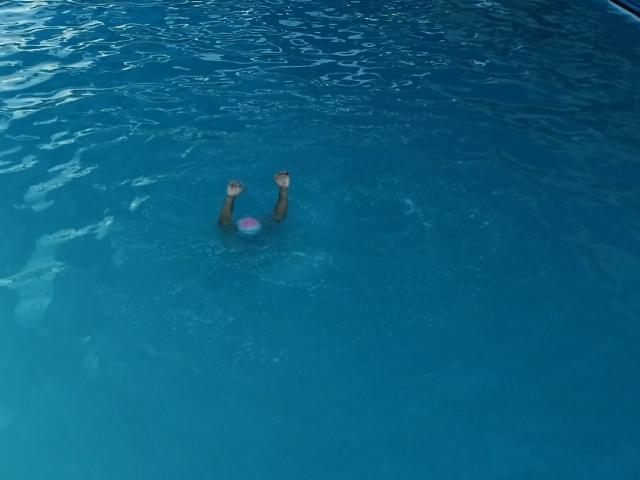drowning: (217, 167, 294, 244)
